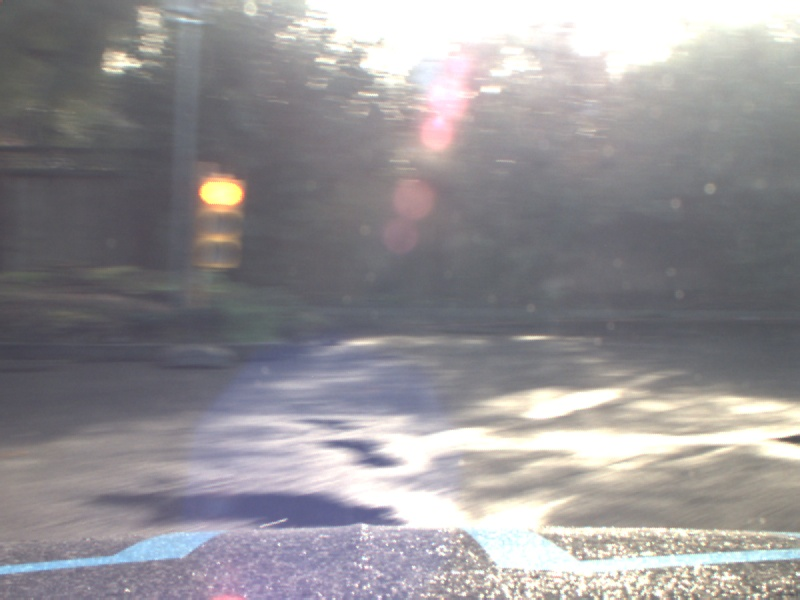Red: (199, 176, 243, 269)
